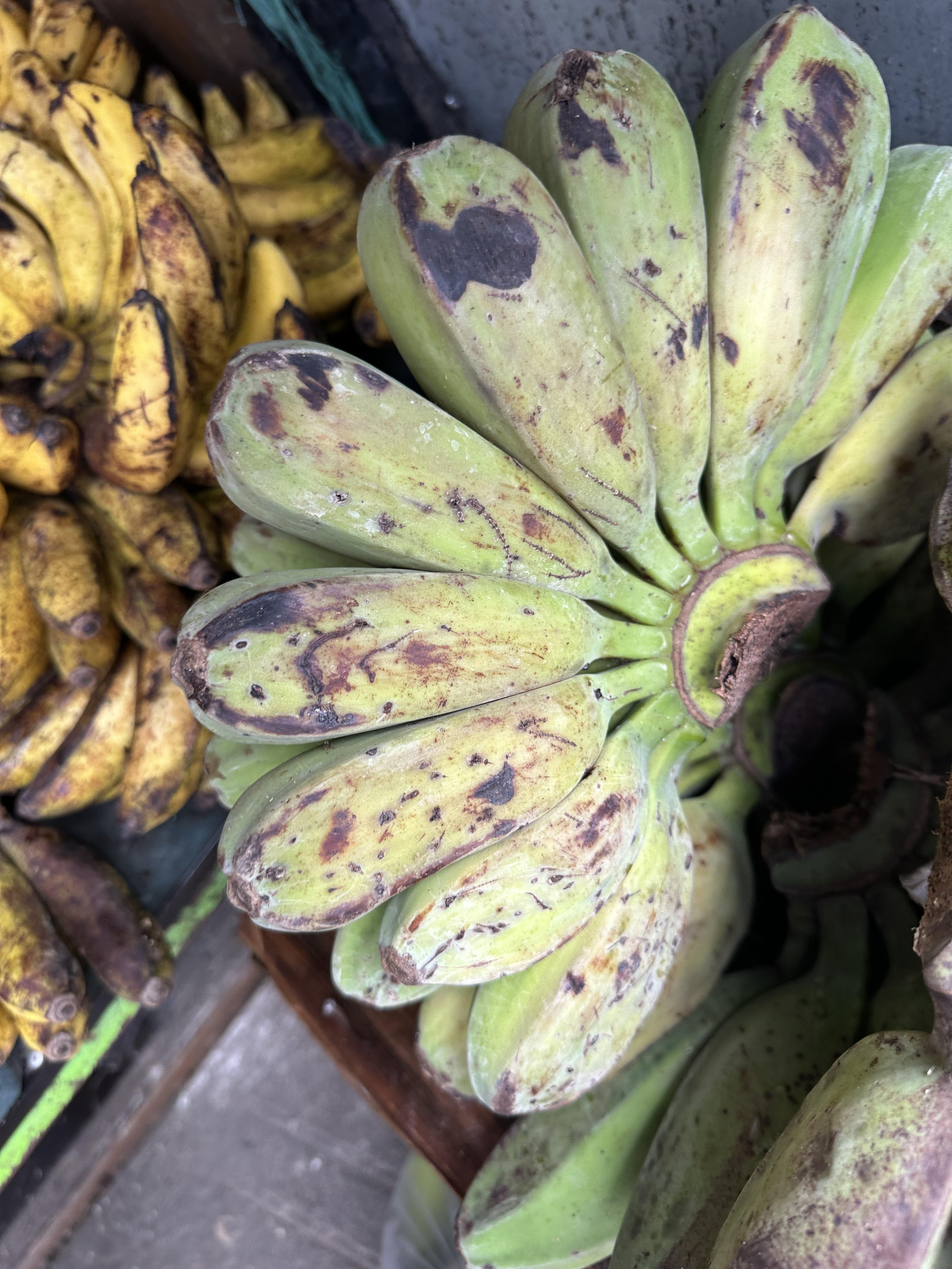underripe: (170, 4, 952, 1119), (456, 967, 952, 1269)
